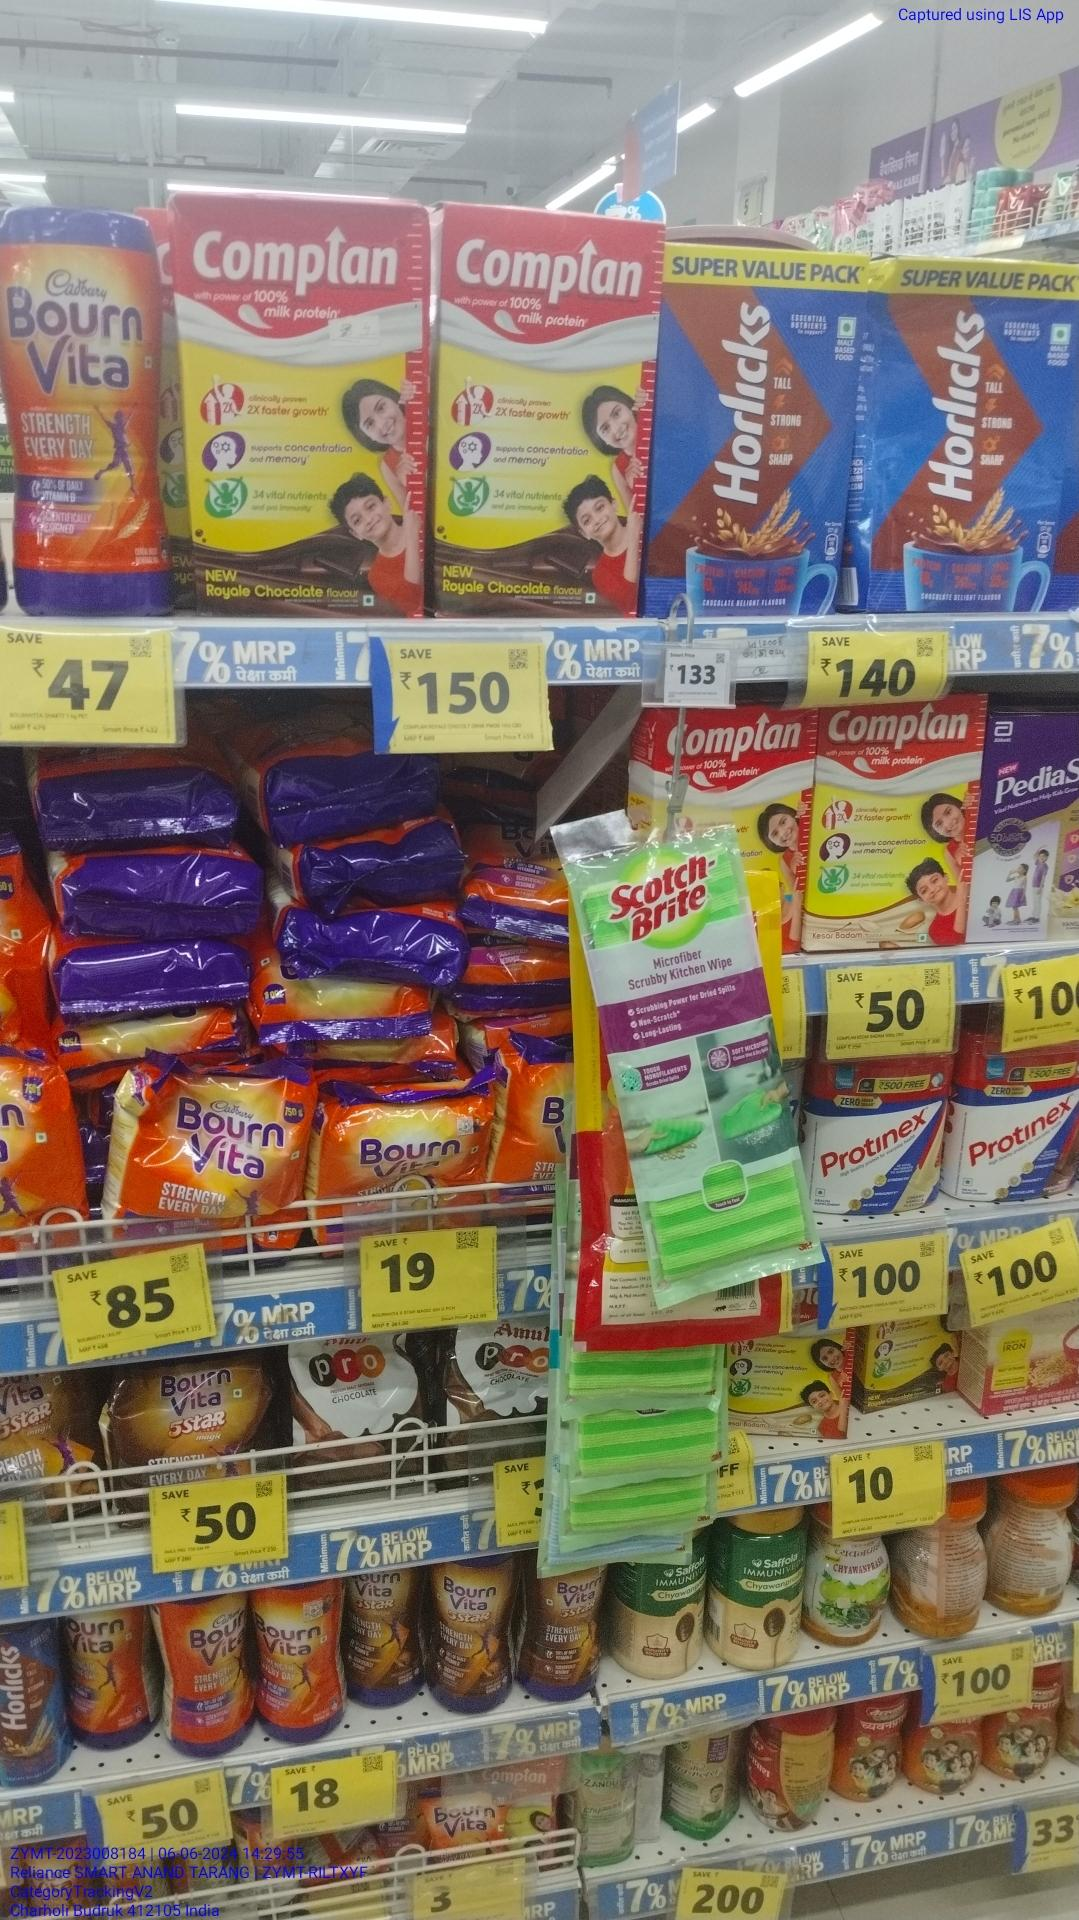BOURN_VITA_FIVE_STAR_MAGIC_500_G_JAR: (435, 1557, 518, 1714), (526, 1556, 612, 1705), (351, 1565, 423, 1712)
